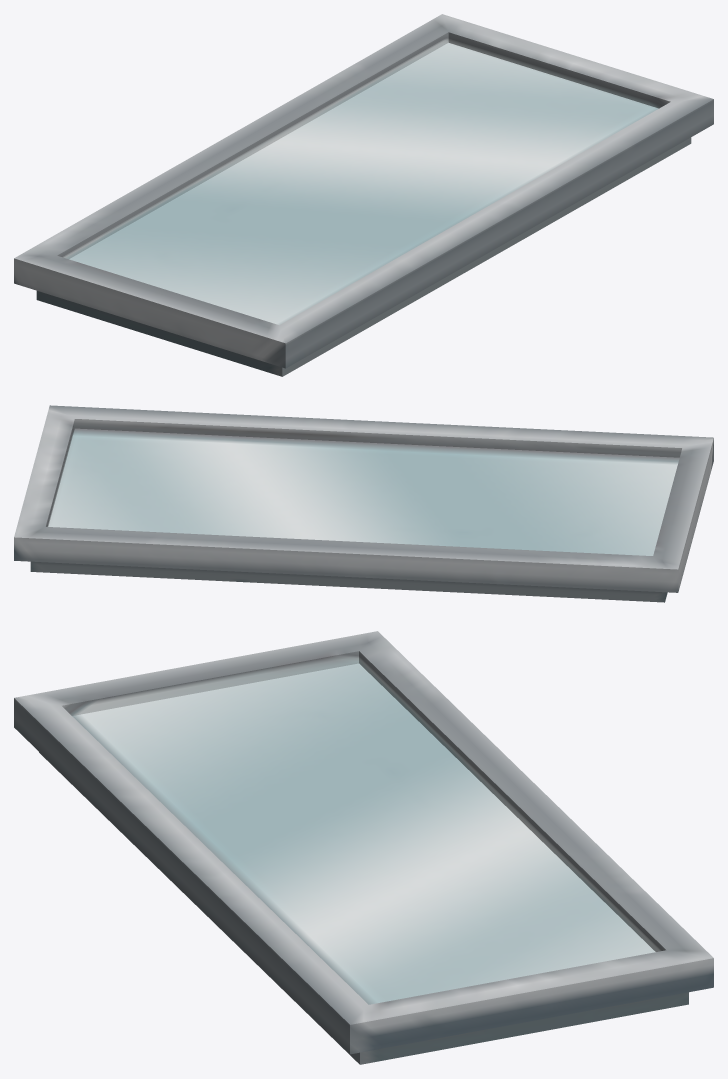
Rendered from HuShiZhan_01_jingzi_01.FBX.
The picture shows the model from 3 angles, top to bottom: view 1: azimuth 30°, elevation 25°; view 2: azimuth 150°, elevation 25°; view 3: azimuth 270°, elevation 25°; orthographic projection. The views are drawn at different scales.
Parts seen in each view (by area): view 1: HuShiZhan_jingzi_01; view 2: HuShiZhan_jingzi_01; view 3: HuShiZhan_jingzi_01.
Boxes of the visible parts, x1,y1,x2,y2 form: HuShiZhan_jingzi_01: (14, 14, 713, 376); HuShiZhan_jingzi_01: (14, 405, 713, 602); HuShiZhan_jingzi_01: (14, 631, 713, 1064).
Bounding box in the file's own units: 165 × 9.9 × 124.
